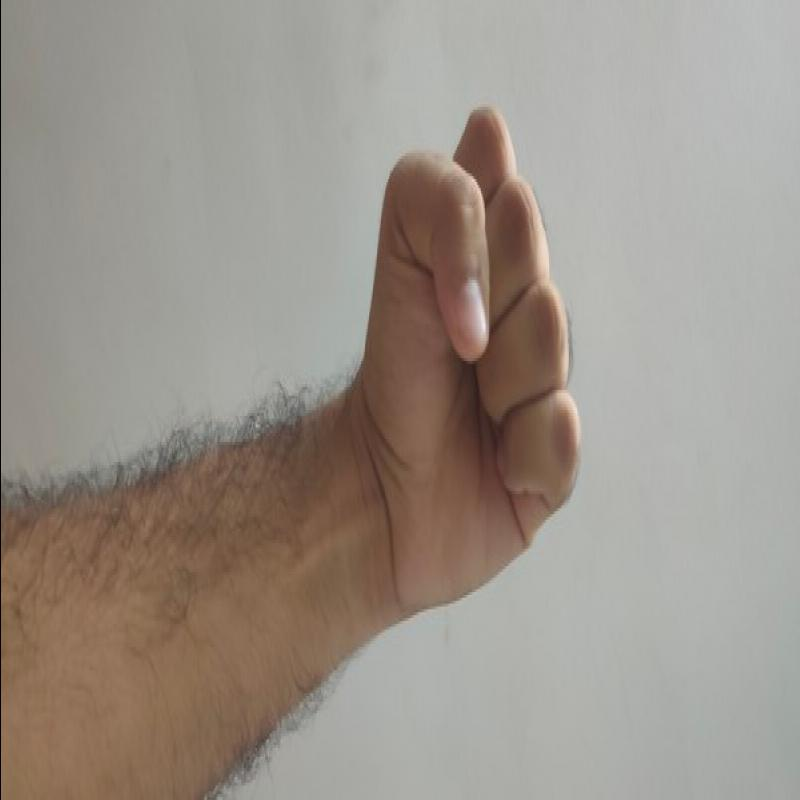Mushti: (351, 88, 619, 632)
